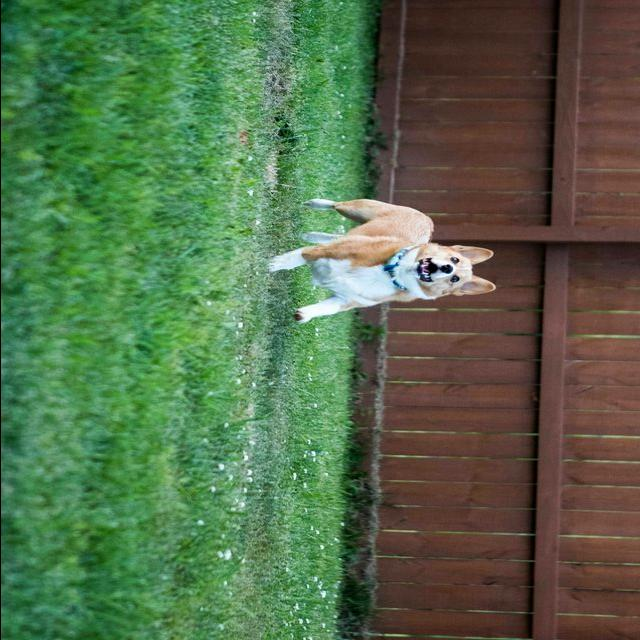corgi: (267, 198, 497, 325)
